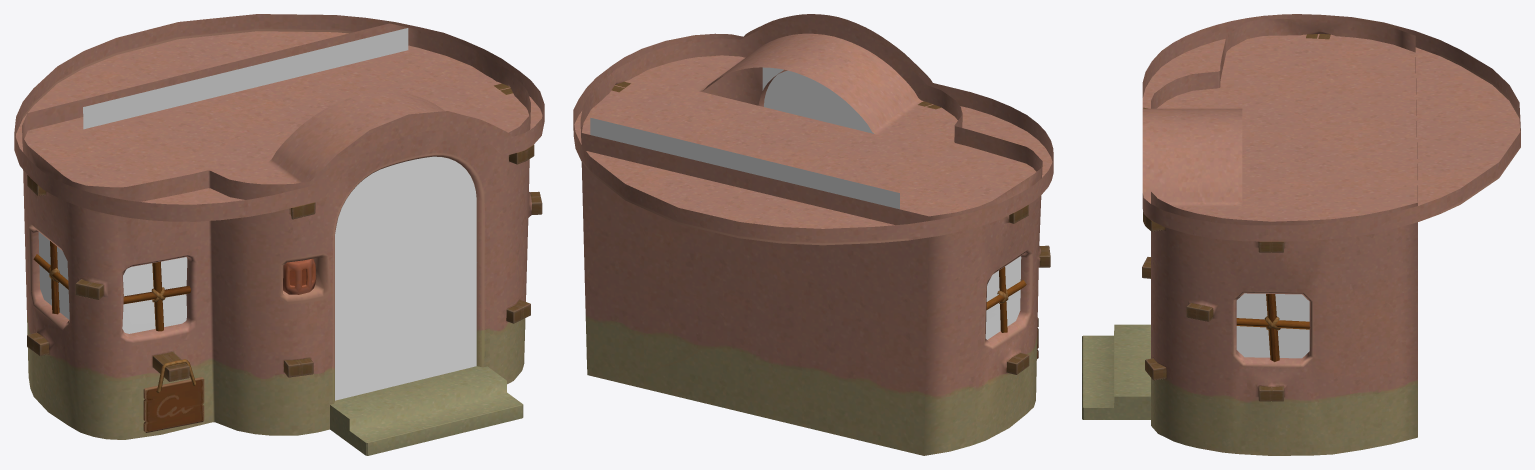
File: wall_nd_soil_e.glb
3 views of the same model, side by side, from view 1: azimuth 30°, elevation 25°; view 2: azimuth 150°, elevation 25°; view 3: azimuth 270°, elevation 25° (orthographic). The views are drawn at different scales.
Parts seen in each view (by area): view 1: wall_10_low__mWallA, Inner_2__mSoftMesh, WallBack_1__mHouseInner, WindowGlass_2__mWindowGlass, SignBoard_1_low__mSignboard, Lamp_1_low__mLamp, WindowGlass_1__mSideWindow; view 2: wall_10_low__mWallA, WallBack_1__mHouseInner, Inner_2__mSoftMesh, WindowGlass_1__mSideWindow; view 3: wall_10_low__mWallA, WindowGlass_1__mSideWindow.
Boxes of the visible parts, left/top/right/bottom form: wall_10_low__mWallA: left=14, top=14, right=544, bottom=455; Inner_2__mSoftMesh: left=335, top=156, right=476, bottom=400; WallBack_1__mHouseInner: left=83, top=28, right=408, bottom=129; WindowGlass_2__mWindowGlass: left=122, top=257, right=187, bottom=333; SignBoard_1_low__mSignboard: left=143, top=359, right=204, bottom=432; Lamp_1_low__mLamp: left=280, top=254, right=329, bottom=301; WindowGlass_1__mSideWindow: left=38, top=232, right=69, bottom=319; wall_10_low__mWallA: left=573, top=14, right=1053, bottom=455; WallBack_1__mHouseInner: left=590, top=117, right=899, bottom=209; Inner_2__mSoftMesh: left=762, top=67, right=873, bottom=133; WindowGlass_1__mSideWindow: left=985, top=256, right=1021, bottom=339; wall_10_low__mWallA: left=1082, top=14, right=1520, bottom=455; WindowGlass_1__mSideWindow: left=1236, top=293, right=1309, bottom=358.
Bounding box in the file's own units: 39.03 × 24.07 × 34.24.
Materials: 8 (3 with a texture image).
